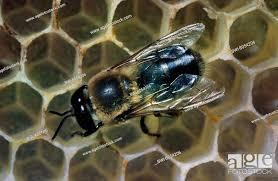worker-bee: (49, 22, 224, 138)
